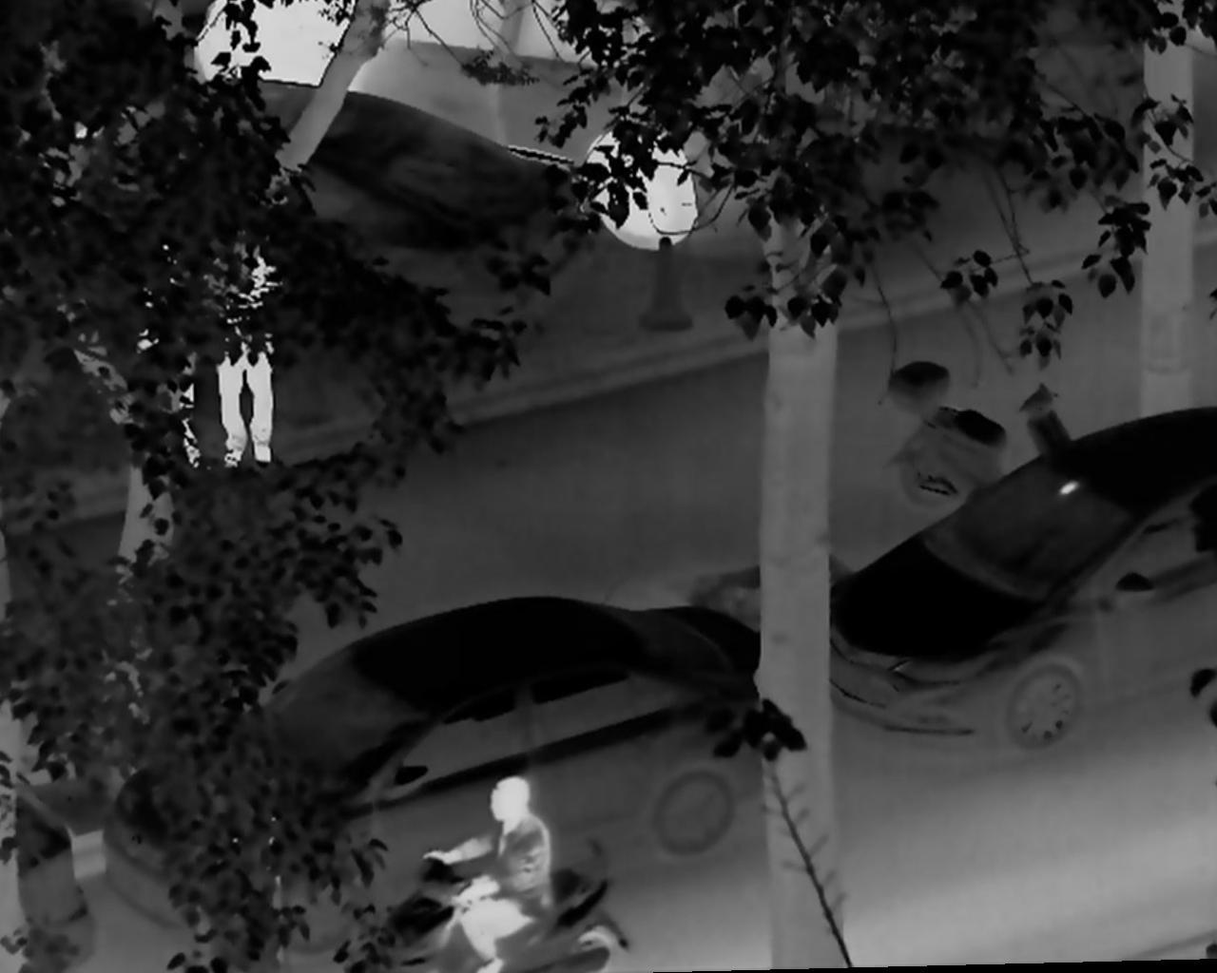person: (419, 770, 559, 973), (202, 209, 305, 475)
